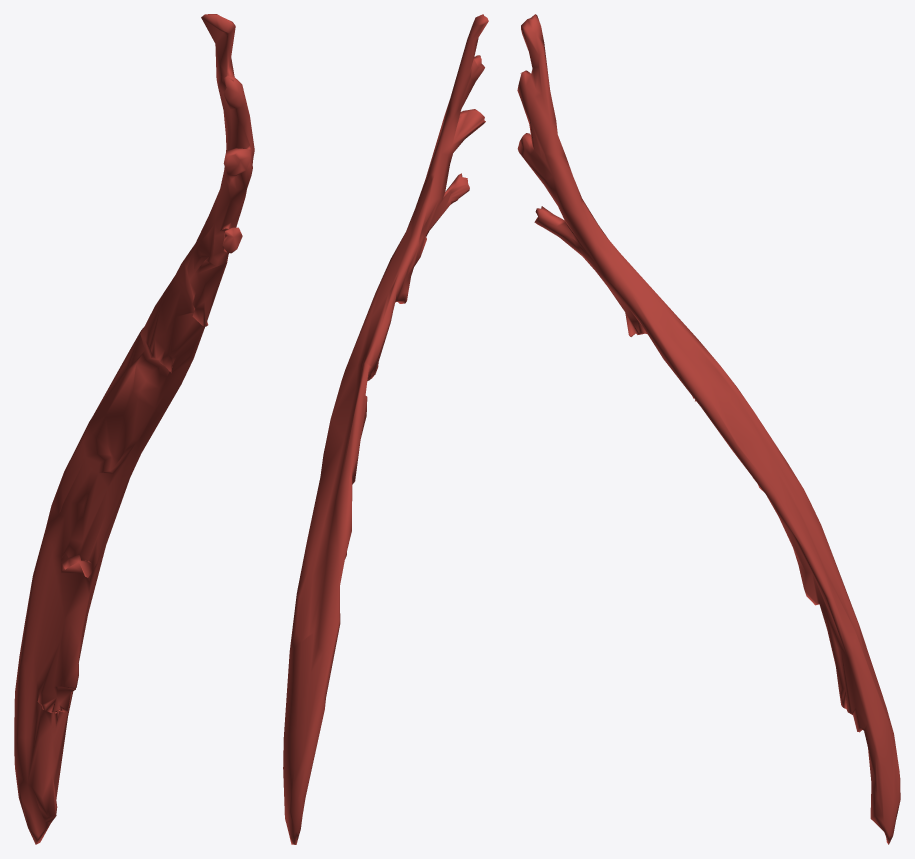
Rendered from musculos-longissimus-colli-muscle-l.glb.
3 views of the same model, side by side, from view 1: azimuth 30°, elevation 25°; view 2: azimuth 150°, elevation 25°; view 3: azimuth 270°, elevation 25° (orthographic). The views are drawn at different scales.
Visible parts, largest first — view 1: Longissimus colli muscle.l; view 2: Longissimus colli muscle.l; view 3: Longissimus colli muscle.l.
Boxes of the visible parts, left/top/right/bottom form: Longissimus colli muscle.l: left=14, top=14, right=254, bottom=844; Longissimus colli muscle.l: left=283, top=14, right=488, bottom=844; Longissimus colli muscle.l: left=517, top=14, right=900, bottom=844.
Size of the model in its own units: 0.0191 by 0.1894 by 0.0812.
